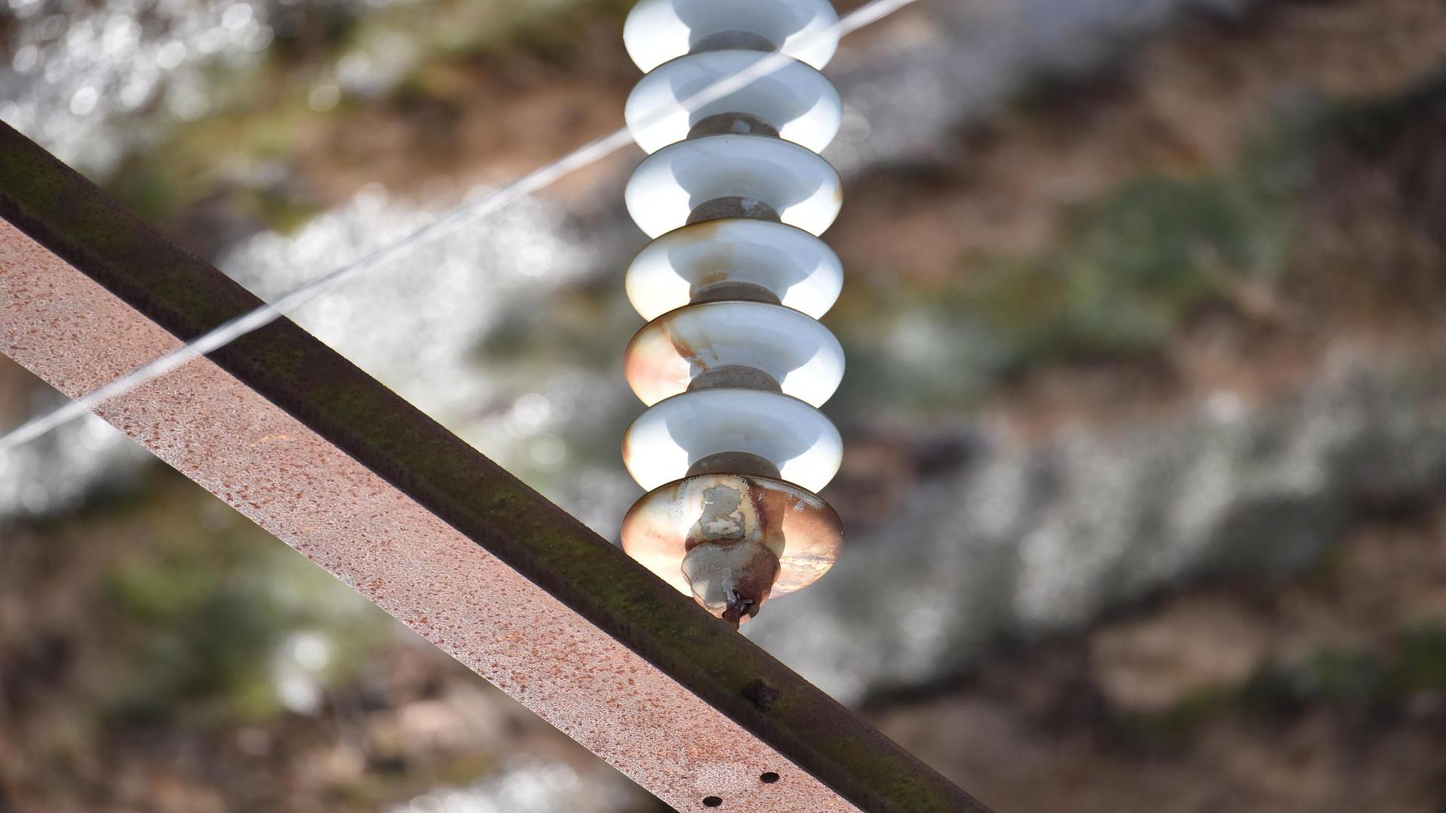insulator: (611, 1, 856, 601)
insulator_flashover: (680, 470, 758, 545), (770, 553, 837, 593)
